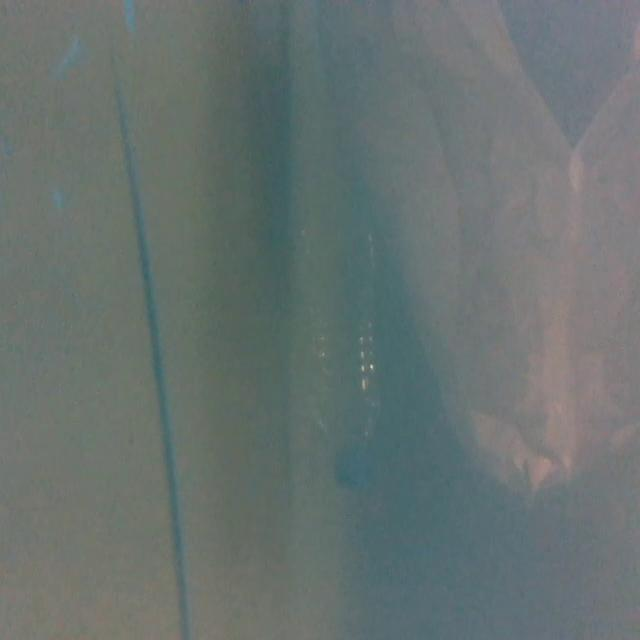plastic bags: (329, 0, 640, 499)
plastic bottle: (292, 212, 383, 493)
